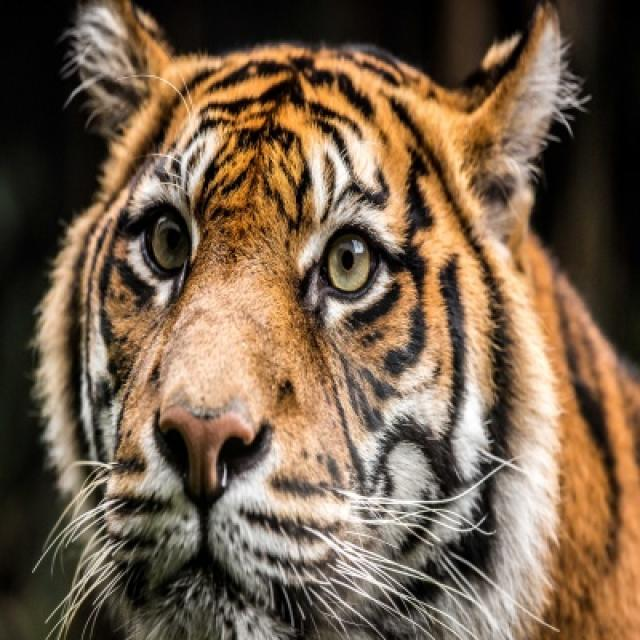Tiger: (44, 63, 531, 630)
